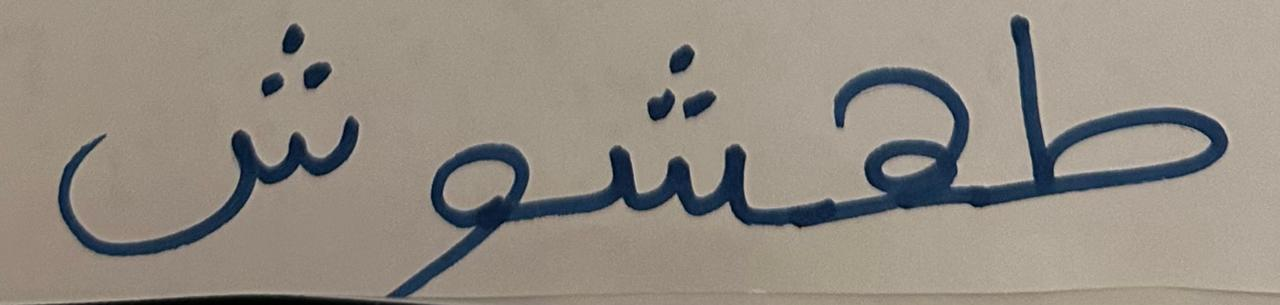jeem: (769, 6, 984, 253)
tah: (17, 4, 370, 286), (561, 6, 766, 272)
teh: (989, 1, 1265, 244)
yeh: (374, 88, 557, 298)
